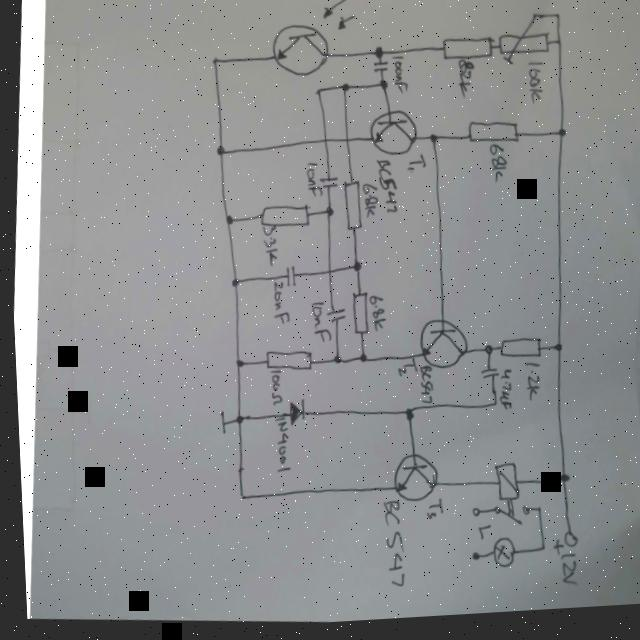capacitor: (322, 309, 344, 327), (475, 370, 497, 386), (281, 266, 296, 289), (317, 177, 338, 192), (370, 62, 390, 76)
crossover: (317, 136, 331, 151), (338, 136, 352, 151), (320, 266, 333, 282)
diode: (283, 398, 304, 429)
ground: (211, 410, 226, 436)
junction: (399, 411, 411, 425), (551, 16, 563, 28), (372, 50, 384, 62), (321, 207, 333, 219), (479, 348, 491, 360), (549, 346, 561, 358), (229, 415, 241, 427), (528, 509, 540, 521), (426, 137, 438, 148), (340, 84, 351, 96), (312, 89, 323, 101), (349, 264, 361, 275), (227, 277, 238, 289), (354, 355, 365, 367), (485, 401, 496, 413), (554, 477, 565, 489), (234, 492, 245, 504), (532, 546, 543, 558), (551, 41, 563, 52), (555, 133, 566, 144), (529, 16, 540, 27), (377, 82, 388, 93), (208, 57, 219, 68), (214, 146, 225, 157), (221, 216, 232, 227), (231, 359, 242, 370), (328, 356, 339, 367)
resistor: (496, 32, 551, 74), (440, 37, 495, 69), (465, 122, 519, 151), (338, 181, 364, 235), (258, 204, 309, 231), (261, 349, 310, 375), (495, 339, 539, 366), (346, 293, 369, 339)
terminal: (555, 535, 575, 554), (464, 555, 479, 566), (465, 509, 476, 523)
text: (373, 501, 406, 591), (370, 161, 400, 218), (267, 418, 291, 475), (306, 302, 331, 346), (523, 63, 546, 110), (267, 282, 290, 327), (454, 62, 477, 104), (484, 148, 508, 188), (388, 58, 411, 98), (257, 226, 277, 269), (519, 365, 539, 407), (302, 162, 324, 200), (492, 371, 511, 415), (364, 298, 385, 336), (553, 556, 574, 592), (263, 370, 282, 409), (413, 368, 431, 408), (358, 185, 377, 221), (419, 499, 440, 524), (404, 156, 425, 178), (393, 360, 415, 381), (471, 527, 487, 545)
transistor: (267, 0, 358, 85), (412, 319, 469, 377), (365, 110, 419, 163), (386, 453, 436, 509)
